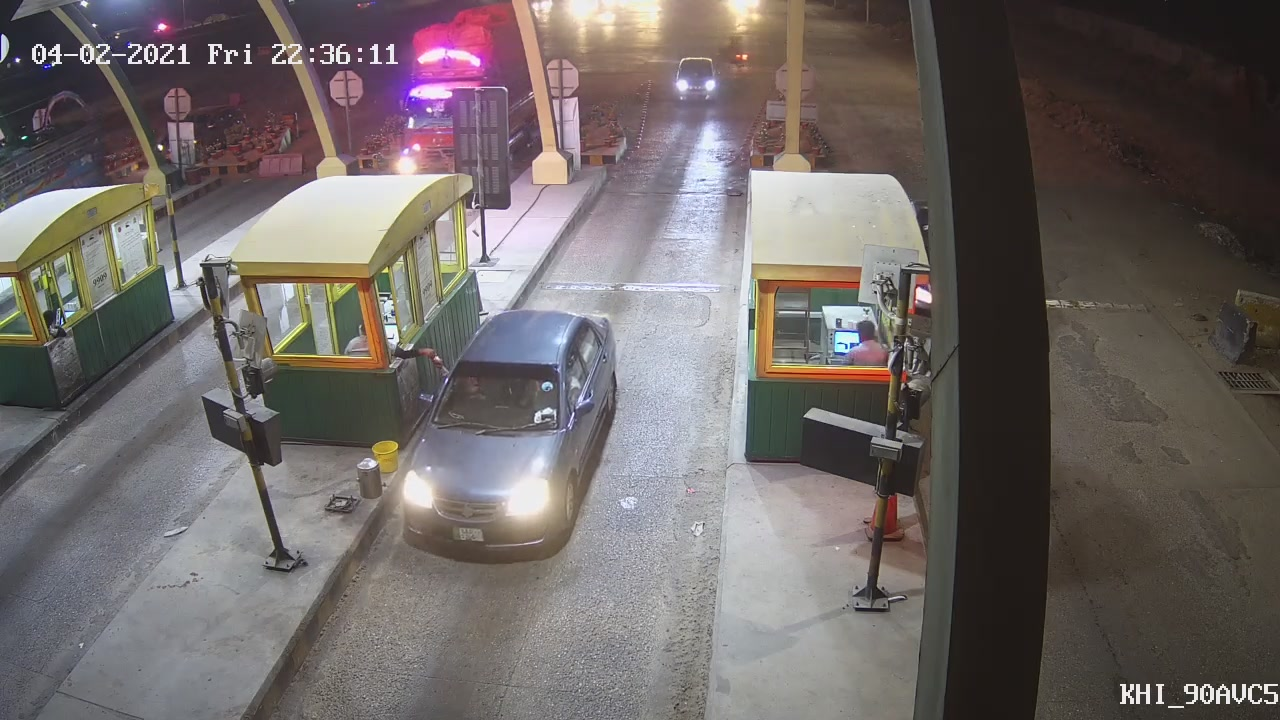F1: (400, 307, 622, 556)
